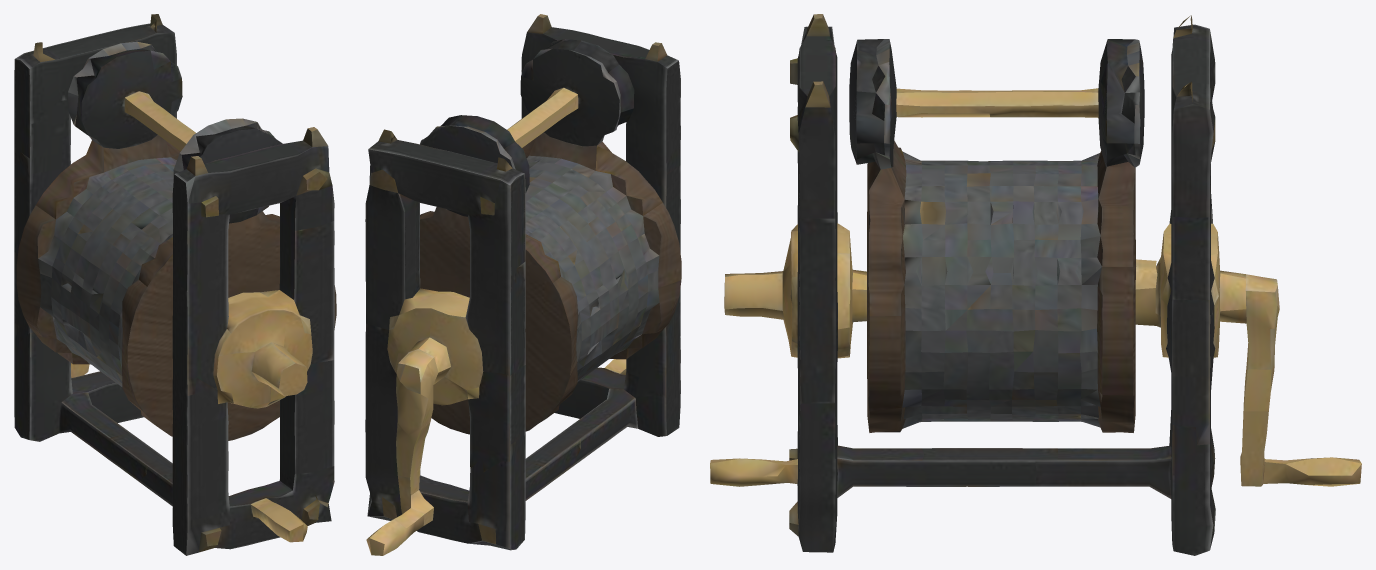
Rendered from treuil.glb.
The picture shows the model from 3 angles, left to right: view 1: azimuth 30°, elevation 25°; view 2: azimuth 150°, elevation 25°; view 3: azimuth 270°, elevation 25°; orthographic projection. The views are drawn at different scales.
Visible parts, largest first — view 1: treuil; view 2: treuil; view 3: treuil.
Boxes of the visible parts, bbox=[...] form: treuil: bbox=[14, 14, 336, 555]; treuil: bbox=[365, 14, 681, 555]; treuil: bbox=[710, 14, 1361, 555].
Bounding box in the file's own units: 0.606 × 1.1 × 1.39.
Materials: 1 (1 with a texture image).
